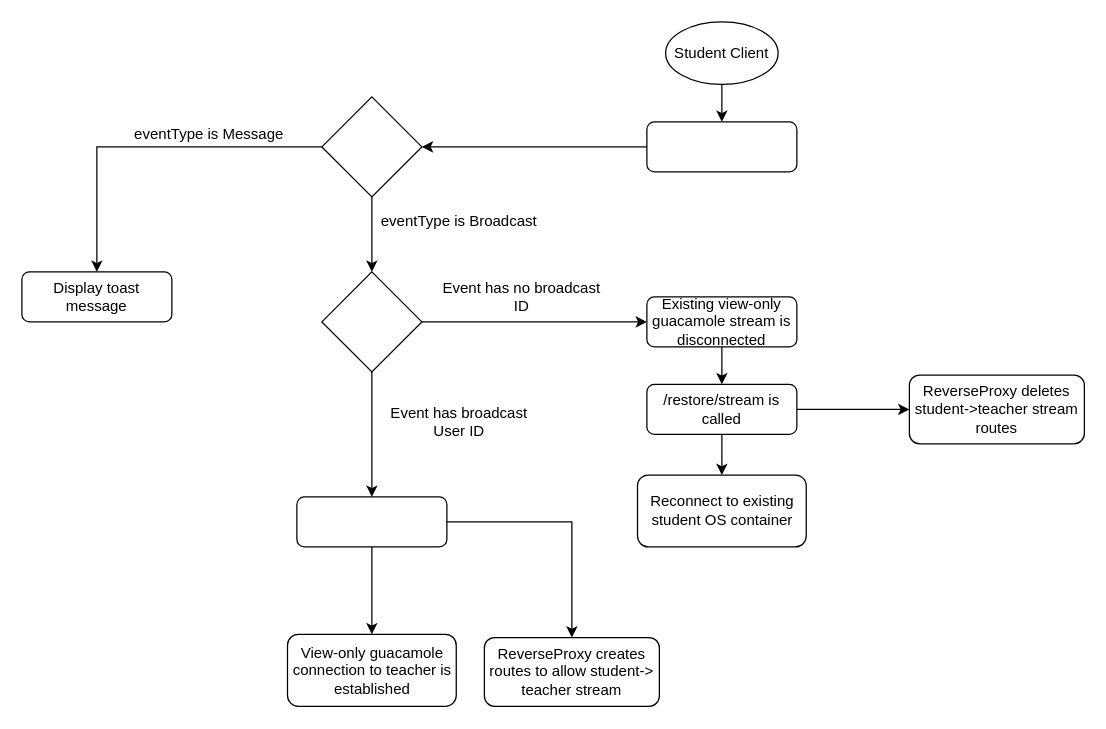
Some shapes in this 1106 by 729 pixel diagram are drawn without their labels. Each missing label, with the box of its shape:
/setup/stream is called: (296, 496, 447, 547)
/subscribe sends an event every 10s: (646, 121, 797, 172)
Event has Data: (321, 271, 422, 372)
Event Type: (321, 96, 422, 197)
